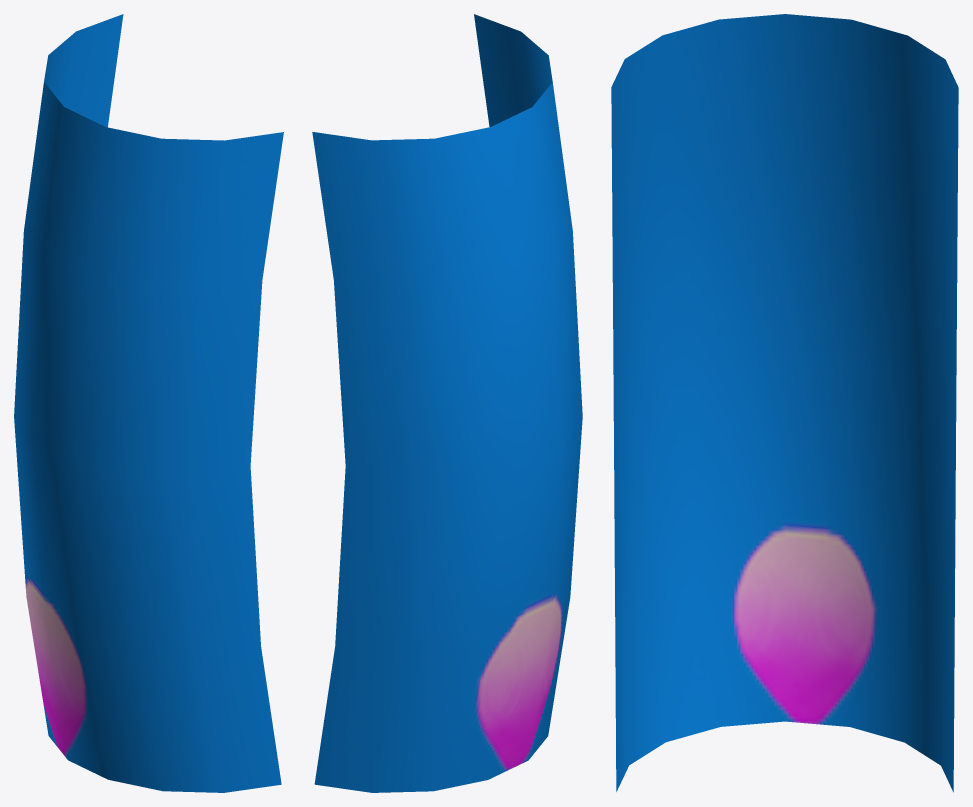
The model's file is p_trashbot_splatter_plane05.fbx.
3 renders of one model, left to right at view 1: azimuth 30°, elevation 25°; view 2: azimuth 150°, elevation 25°; view 3: azimuth 270°, elevation 25°, orthographic. The views are drawn at different scales.
Parts seen in each view (by area): view 1: Fluid2; view 2: Fluid2; view 3: Fluid2.
Boxes of the visible parts, x1=… form: Fluid2: x1=14, y1=14, x2=283, y2=792; Fluid2: x1=312, y1=14, x2=582, y2=792; Fluid2: x1=611, y1=14, x2=958, y2=792.
Size of the model in its own units: 0.3723 by 1.37 by 0.6108.
